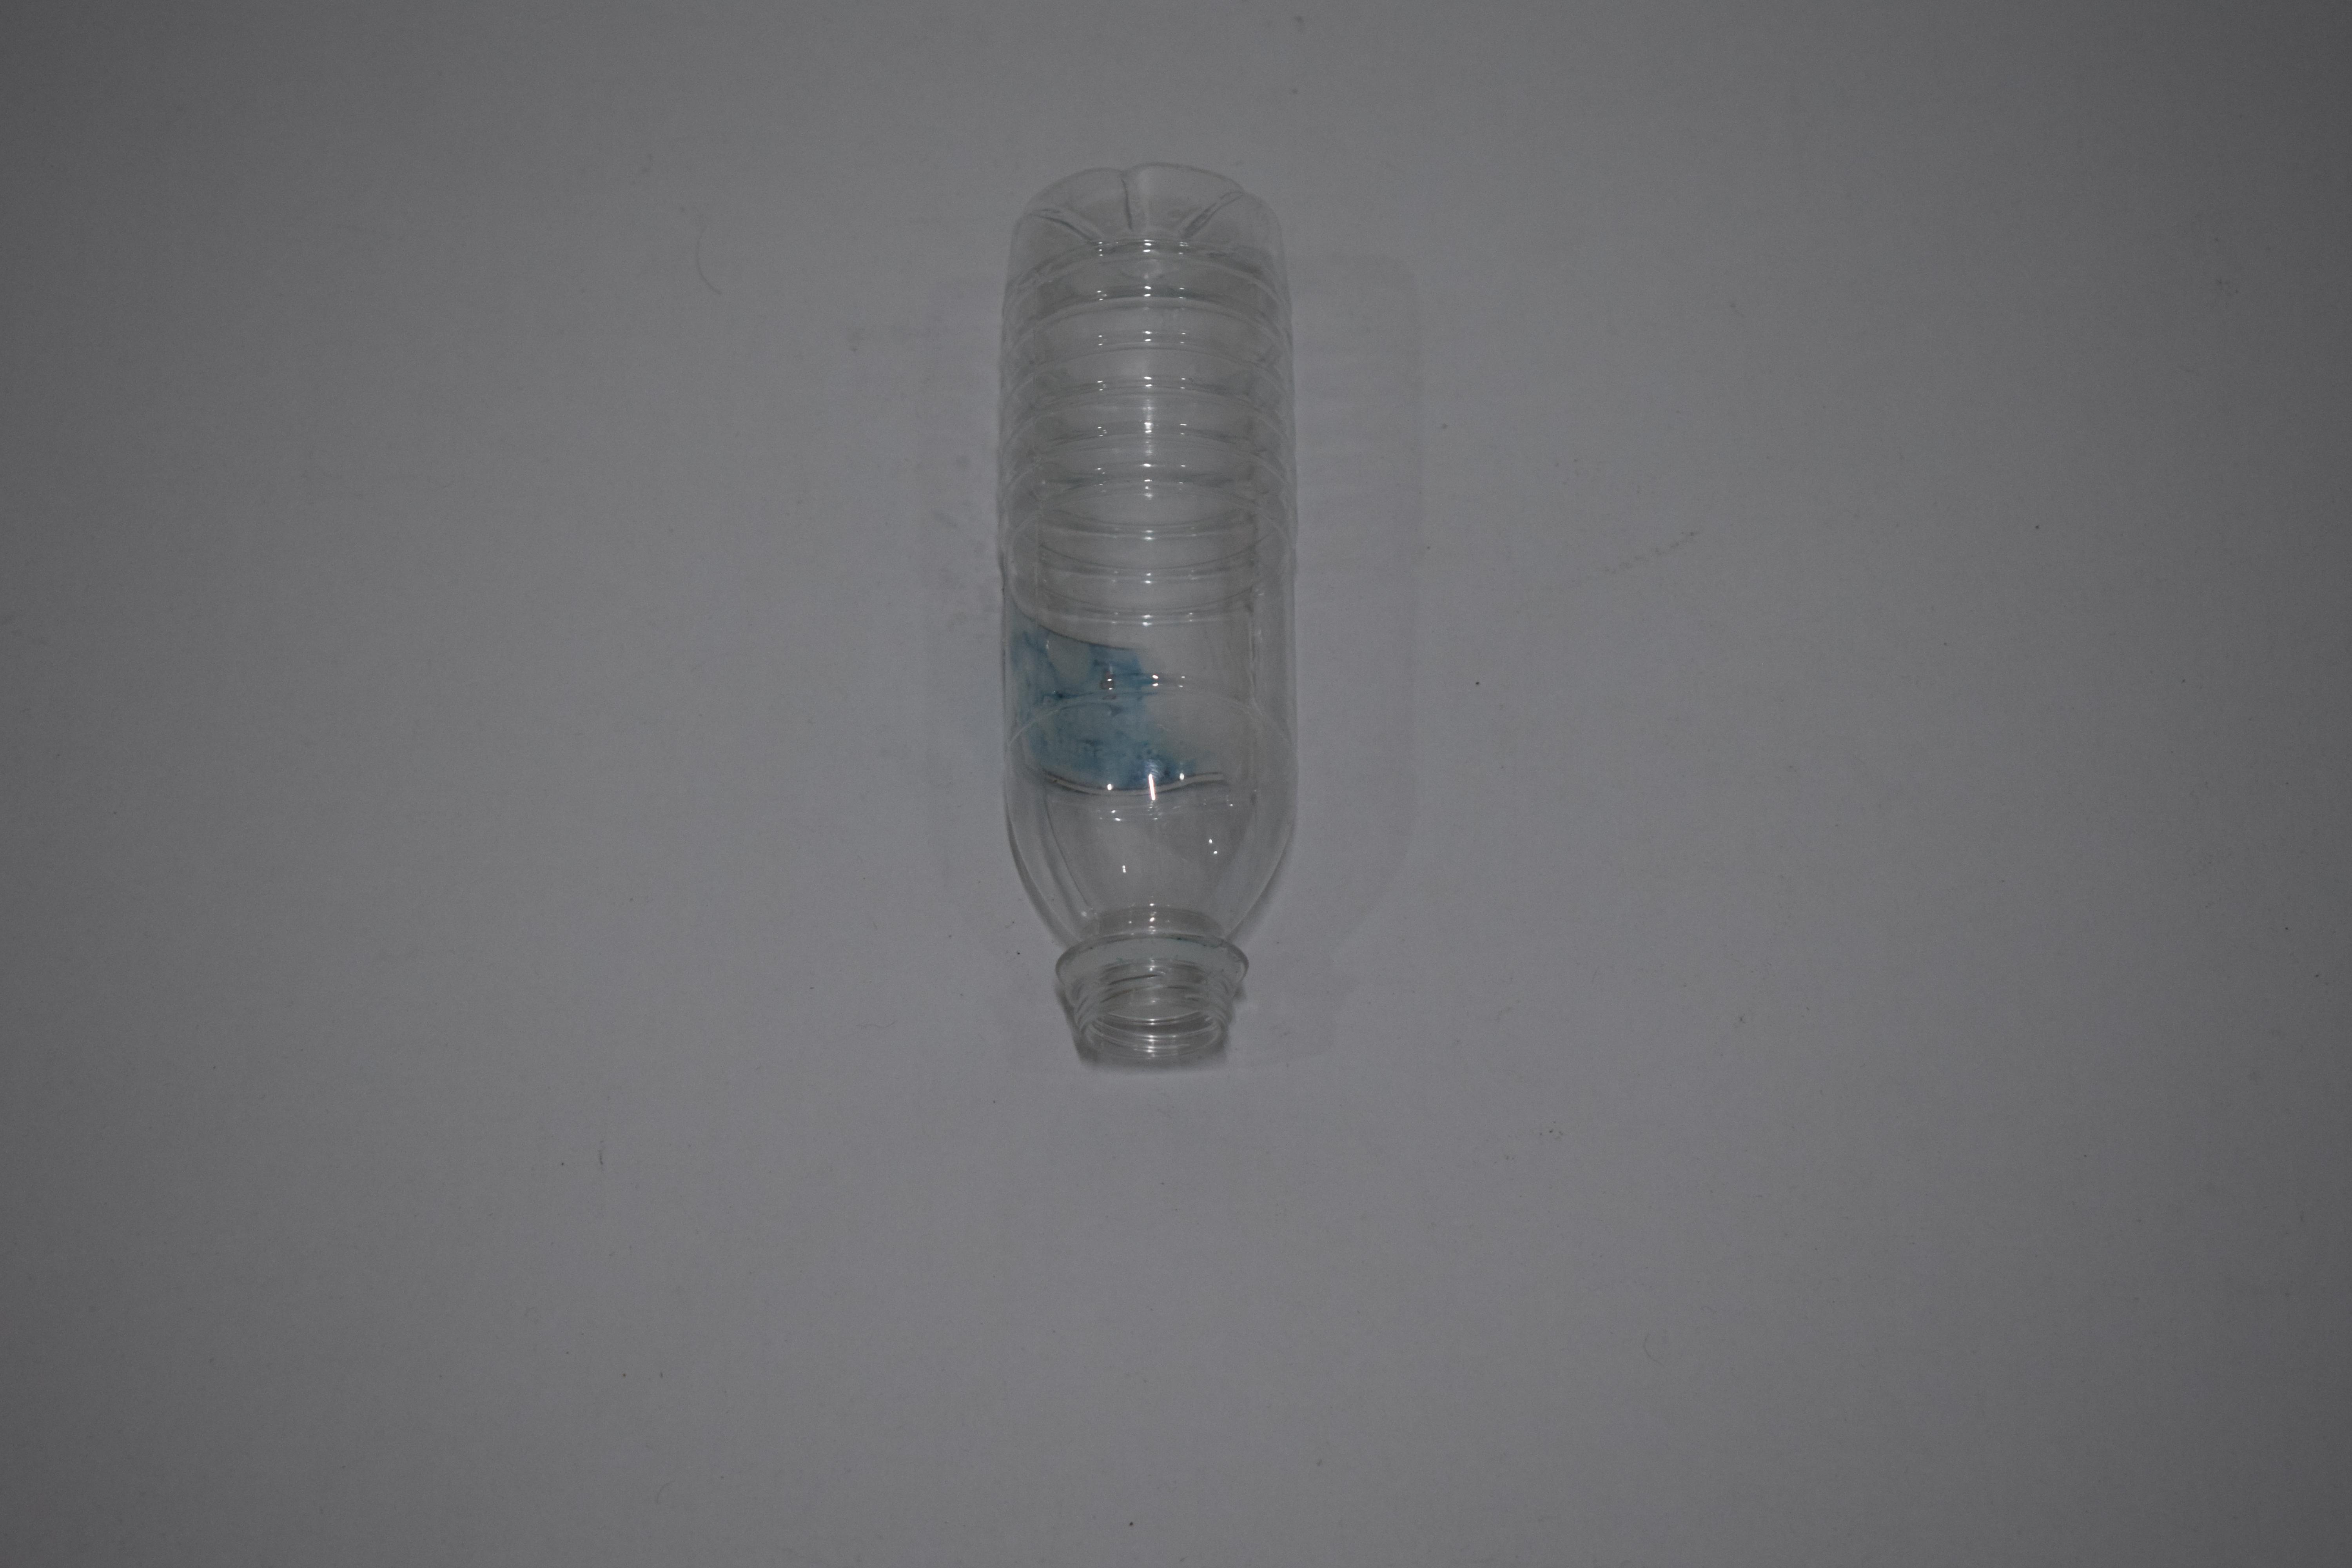bottle: (978, 530, 1284, 681)
